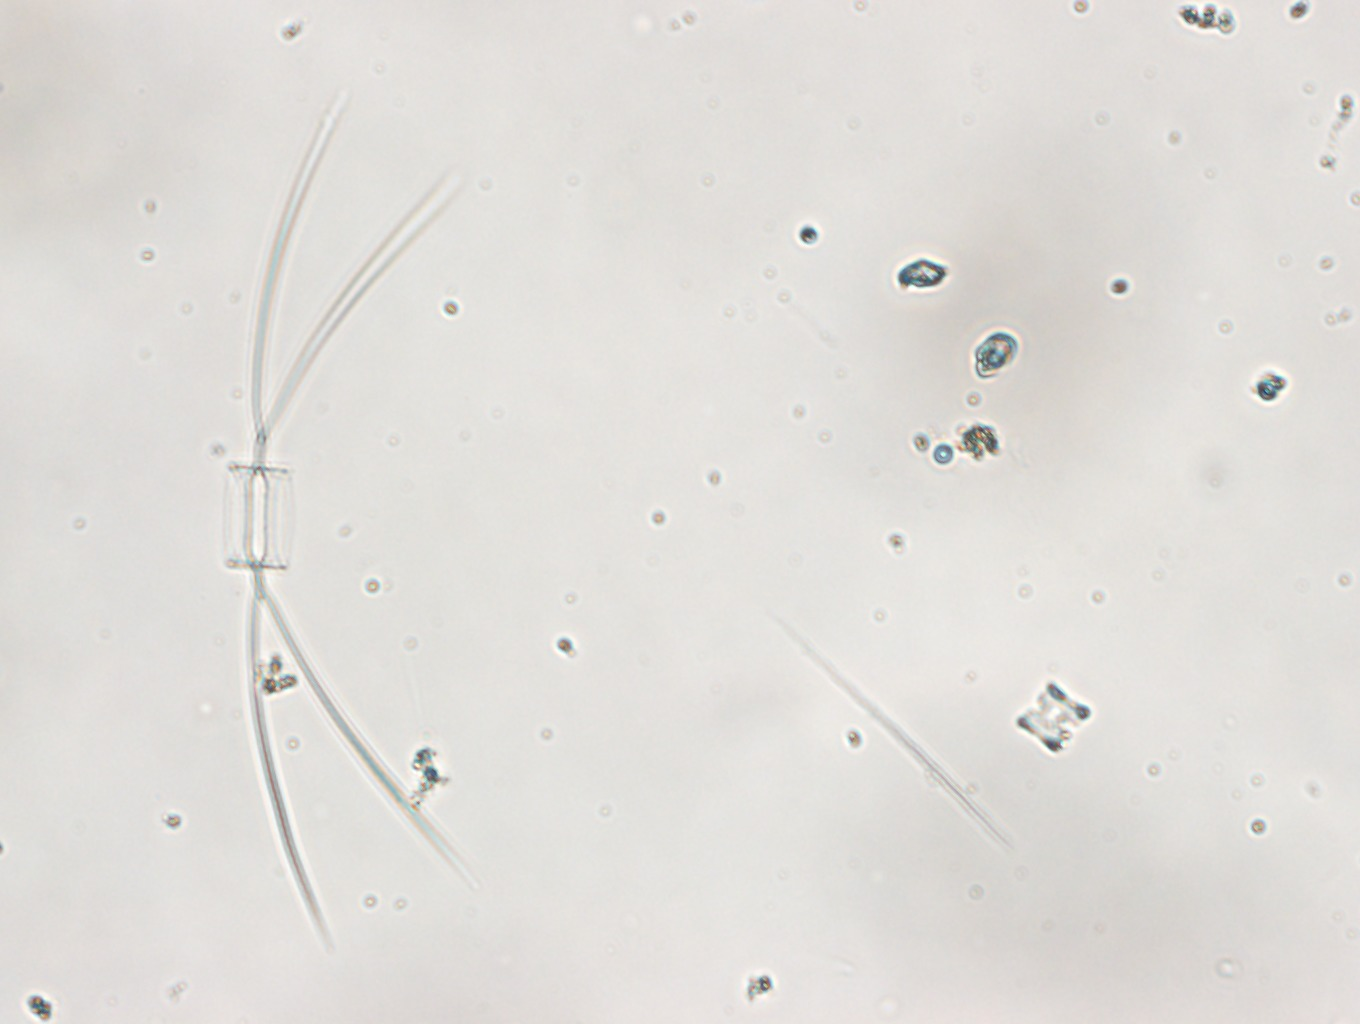chaetoceros: (216, 77, 513, 959)
